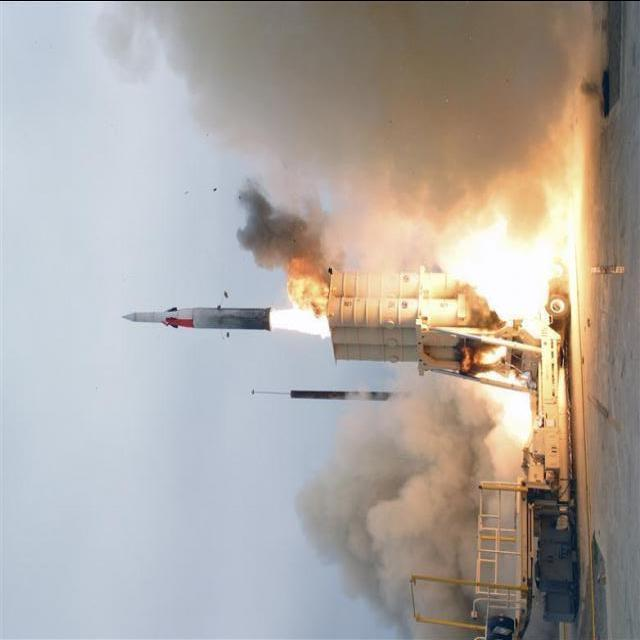Missile: (120, 298, 283, 337), (278, 385, 416, 401)
